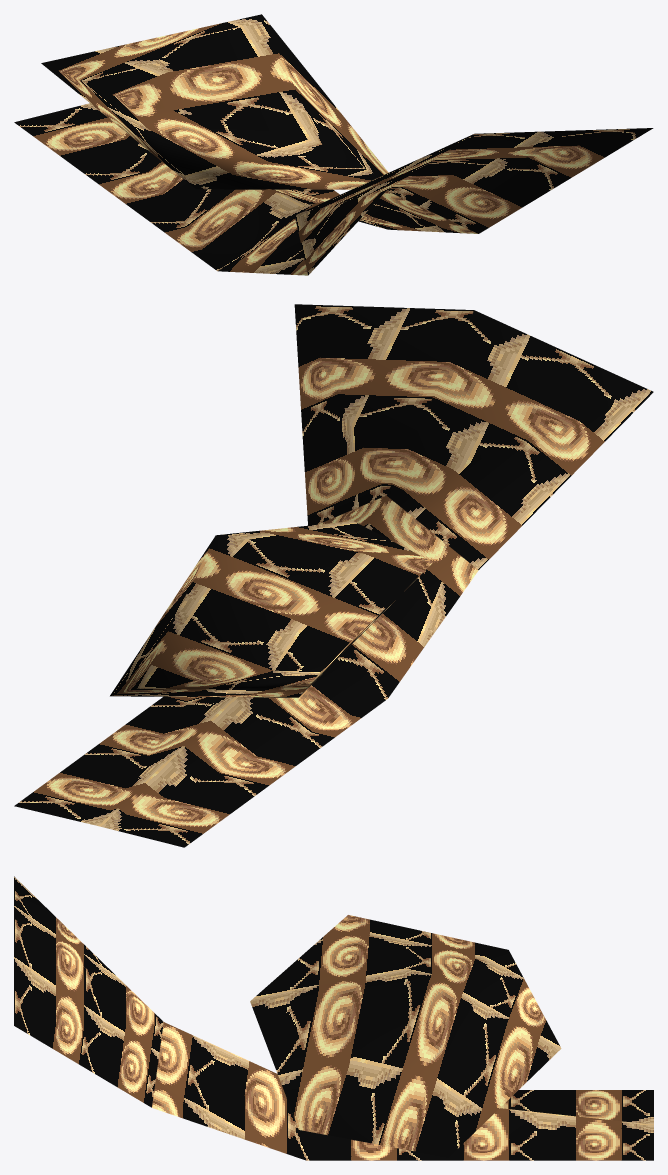
File: 5038musi48.gltf
3 views of the same model, one above another, from view 1: azimuth 30°, elevation 25°; view 2: azimuth 150°, elevation 25°; view 3: azimuth 270°, elevation 25° (orthographic). The views are drawn at different scales.
Parts seen in each view (by area): view 1: 5038musi48; view 2: 5038musi48; view 3: 5038musi48.
Boxes of the visible parts, bbox=[...] form: 5038musi48: bbox=[14, 14, 653, 275]; 5038musi48: bbox=[14, 304, 653, 847]; 5038musi48: bbox=[14, 876, 653, 1160].
Size of the model in its own units: 0.1523 by 0.0981 by 0.2754.
Materials: 1 (1 with a texture image).
